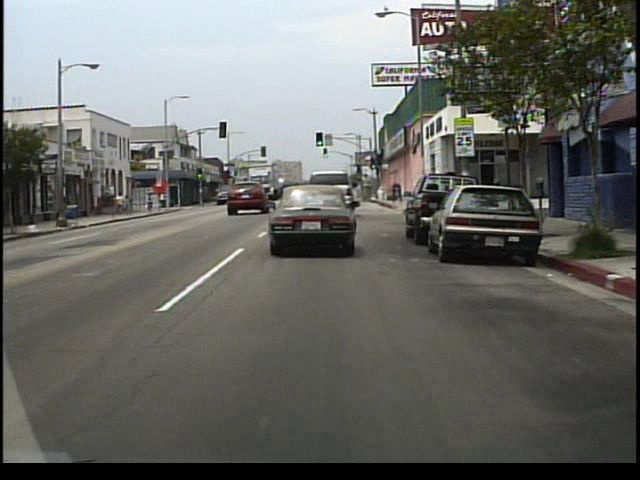person: (120, 193, 129, 217), (146, 191, 155, 211), (129, 194, 136, 215)
